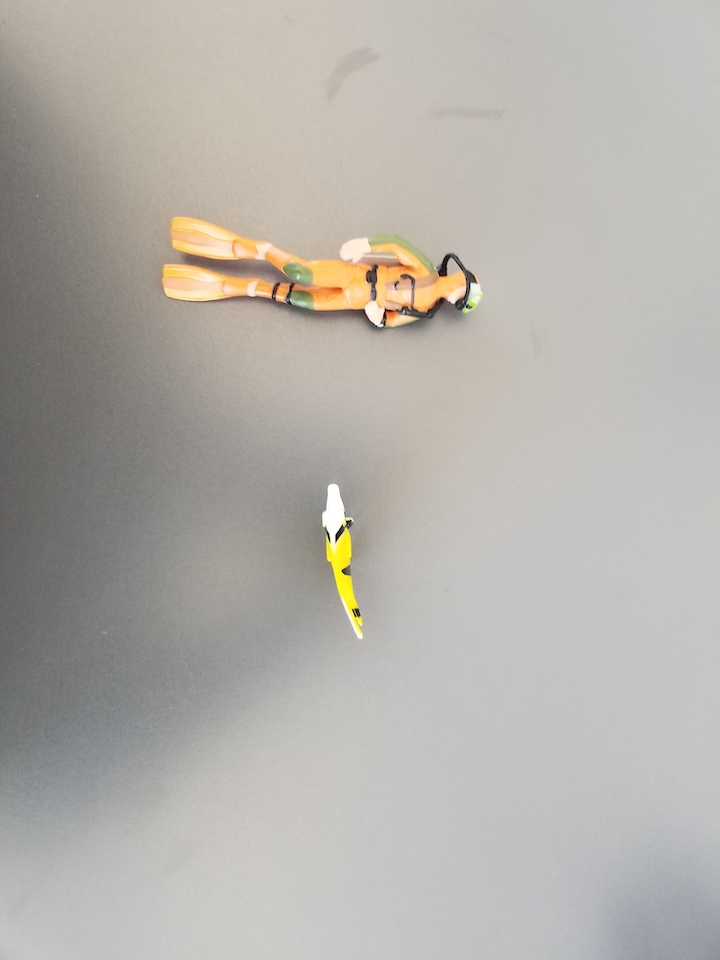danger: (317, 482, 369, 640)
diver: (159, 214, 489, 332)
